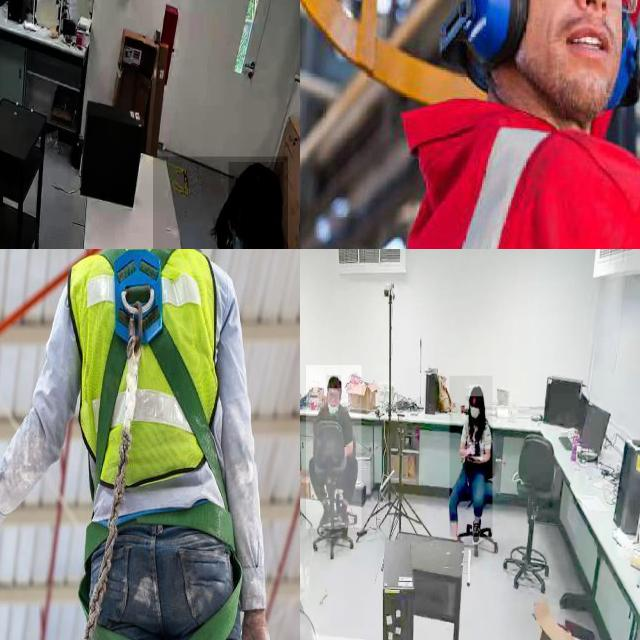Ear-protection: (437, 0, 640, 112)
Harness: (84, 249, 240, 640)
face_mask: (223, 211, 254, 249), (468, 396, 483, 426)
face_nomask: (326, 389, 340, 407)
hand_noglove: (467, 442, 475, 455)
head_nohelmet: (228, 162, 284, 206), (326, 375, 342, 389), (469, 385, 483, 397)
person: (372, 0, 640, 249), (153, 156, 288, 249), (306, 365, 362, 529), (449, 376, 493, 538)
shoes: (315, 499, 333, 529), (468, 514, 484, 546), (336, 500, 352, 529)
